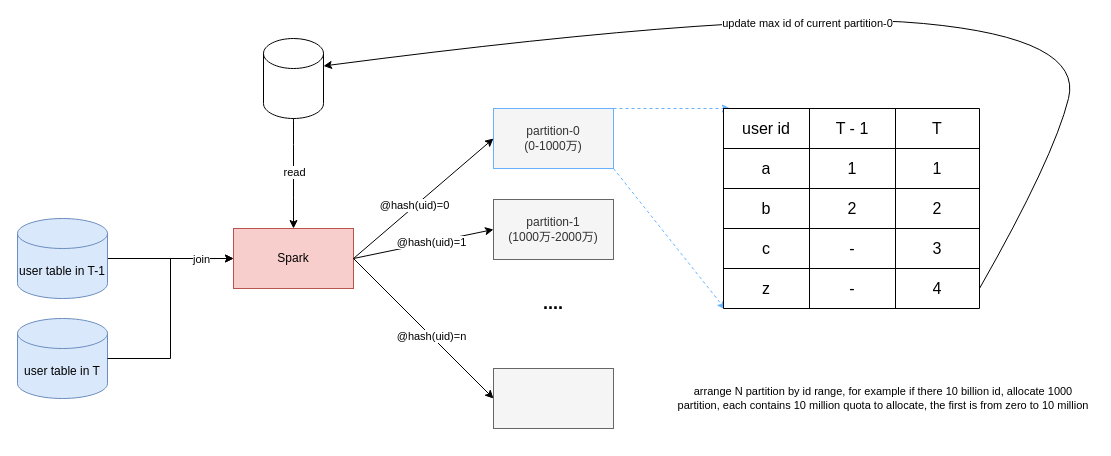
Some shapes in this 1111 by 456 pixel diagram are drawn without their labels. Here are the shapes that lost their labels. From the top down, the centre of each, then its label:
At point 293,78: "max id of each partition".
At point 553,398: "partition-N".
